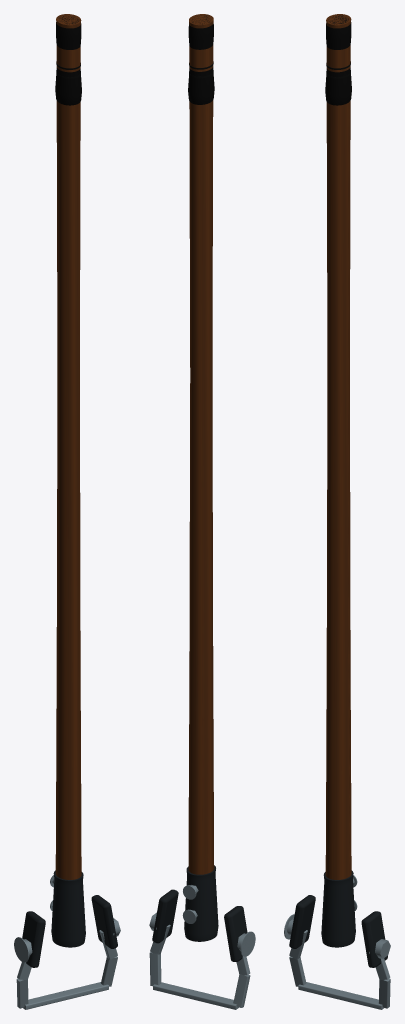
Rendered from StirrupHoe.gltf.
The picture shows the model from 3 angles, left to right: view 1: azimuth 30°, elevation 25°; view 2: azimuth 150°, elevation 25°; view 3: azimuth 330°, elevation 25°; orthographic projection.
Parts seen in each view (by area): view 1: StirrupHoe__Body; view 2: StirrupHoe__Body; view 3: StirrupHoe__Body.
Boxes of the visible parts, <box> form: StirrupHoe__Body: <box>14,14,120,1009</box>; StirrupHoe__Body: <box>149,14,255,1009</box>; StirrupHoe__Body: <box>284,14,390,1009</box>.
Size of the model in its own units: 0.1577 by 1.49 by 0.0594.
Materials: 1 (1 with a texture image).
